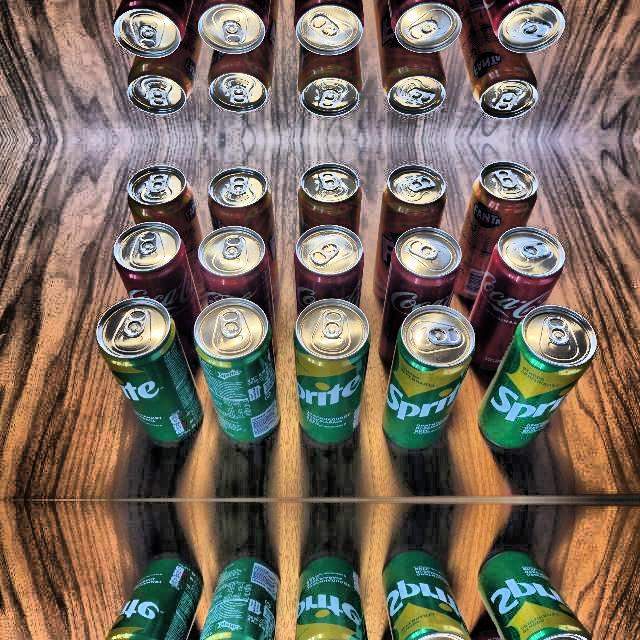Cans: (80, 284, 207, 450), (474, 304, 598, 466), (282, 290, 379, 445), (441, 153, 546, 294), (477, 222, 572, 376), (105, 225, 199, 375), (188, 292, 279, 438), (386, 300, 468, 462), (460, 542, 595, 640), (107, 148, 203, 284), (282, 154, 374, 288), (381, 218, 460, 370), (454, 3, 548, 124), (200, 223, 287, 349), (294, 216, 371, 350), (362, 549, 469, 640), (202, 156, 284, 271), (371, 160, 442, 286), (100, 544, 193, 640), (195, 545, 286, 640), (199, 18, 285, 116), (374, 28, 456, 127), (285, 32, 368, 128), (284, 548, 369, 640), (112, 35, 194, 125), (172, 0, 278, 59), (481, 0, 579, 62), (373, 0, 461, 53), (292, 0, 368, 58), (112, 0, 184, 59)
